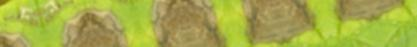Tomato Early blight leaf: (163, 0, 273, 47)
